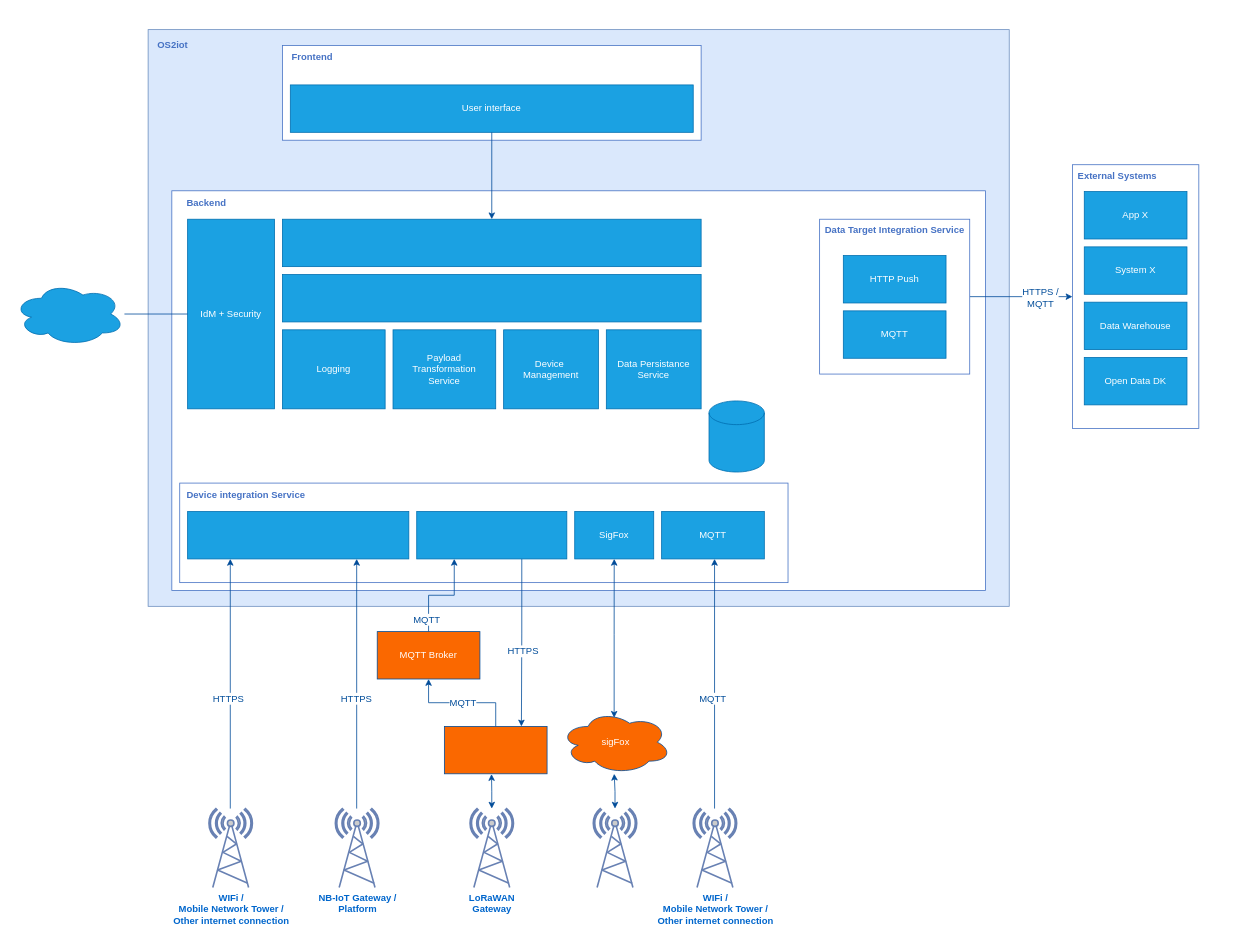
This 1258x940 diagram has some shape labels left out. Each missing label, with the centre of its shape:
"API" goes at (491,242).
"Chirpstack" goes at (495,750).
"Database" goes at (736,436).
"Genereic HTTP" goes at (298,535).
"KOMBIT Adgangsstyring" goes at (68,314).
"LoRaWAN" goes at (491,535).
"Service Layer" goes at (491,298).
"SigFox Gateway" goes at (614,847).
